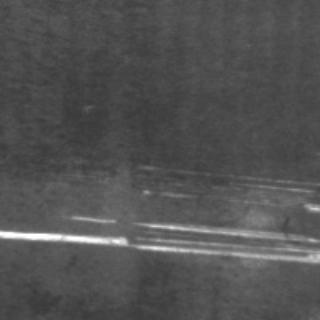scratches: (0, 214, 316, 266), (135, 160, 315, 208)
